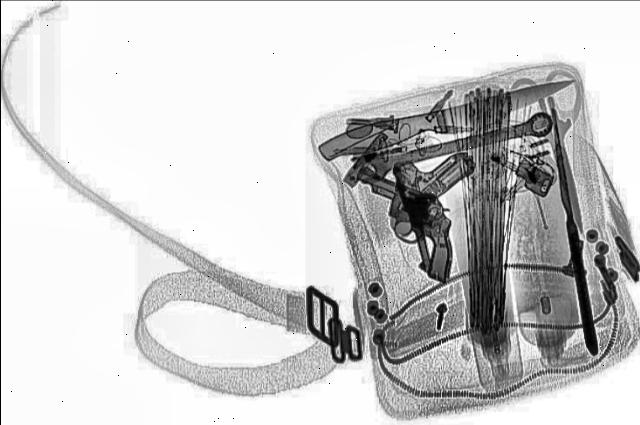Gun: (299, 168, 507, 284), (385, 153, 511, 273)
Knife: (313, 69, 587, 169), (540, 96, 602, 357), (540, 97, 584, 233)
Wrench: (343, 113, 562, 187)
